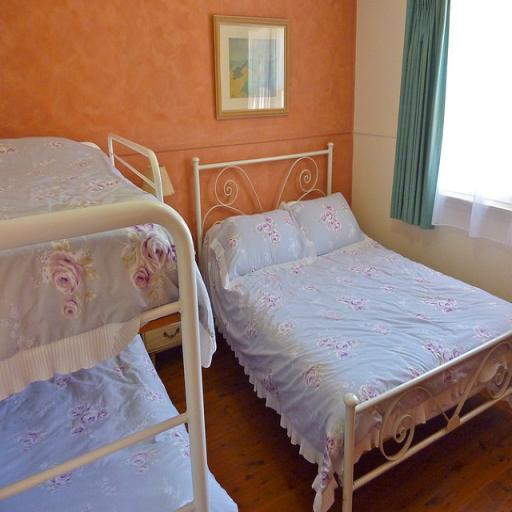bed: (190, 148, 512, 504)
